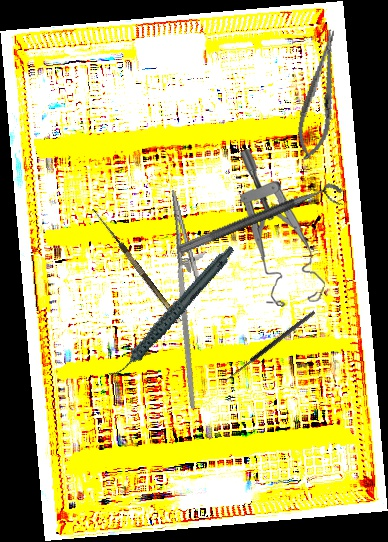Fixation Ring: (176, 179, 349, 268)
Handpiece: (87, 245, 256, 380)
Hook Surgical: (85, 206, 182, 329), (223, 309, 320, 388)
Needle Holder: (144, 186, 238, 410), (291, 26, 349, 164)
Speculum: (234, 148, 330, 309)
